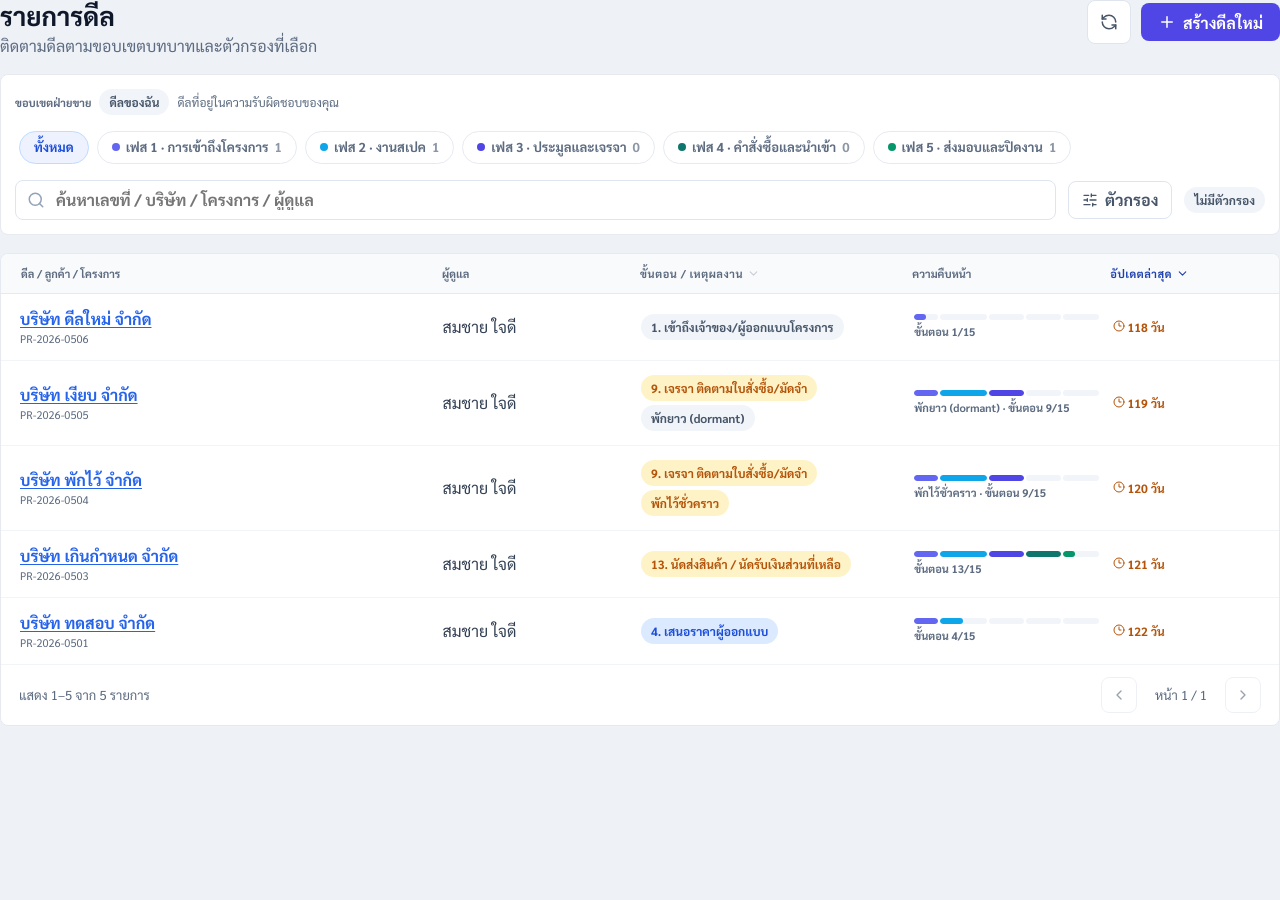
TicketListPage › filters by lifecycle, overdue, and partial delivery chips (after expanding "ตัวกรองเพิ่มเติม")
The width and height of the screenshot is (1280, 900).
Check: the link "บริษัท ทดสอบ จำกัด" is shown, box top-left (20, 612), bottom-right (155, 633)
Click the button "ตัวกรอง": [1120, 200] box top-left (1068, 181), bottom-right (1172, 219)
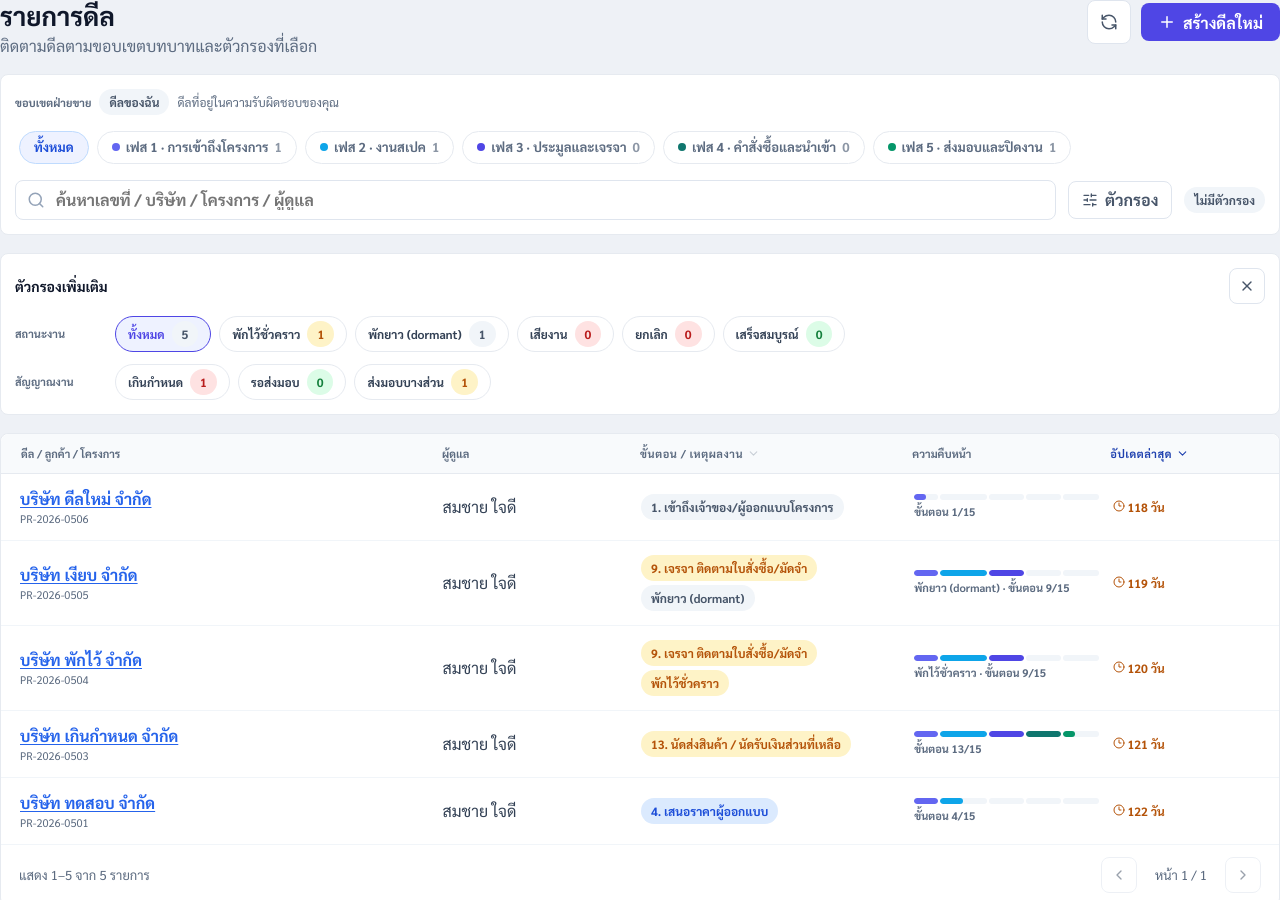
Click the button "พักไว้ชั่วคราว 1": [283, 334] box top-left (219, 316), bottom-right (347, 352)
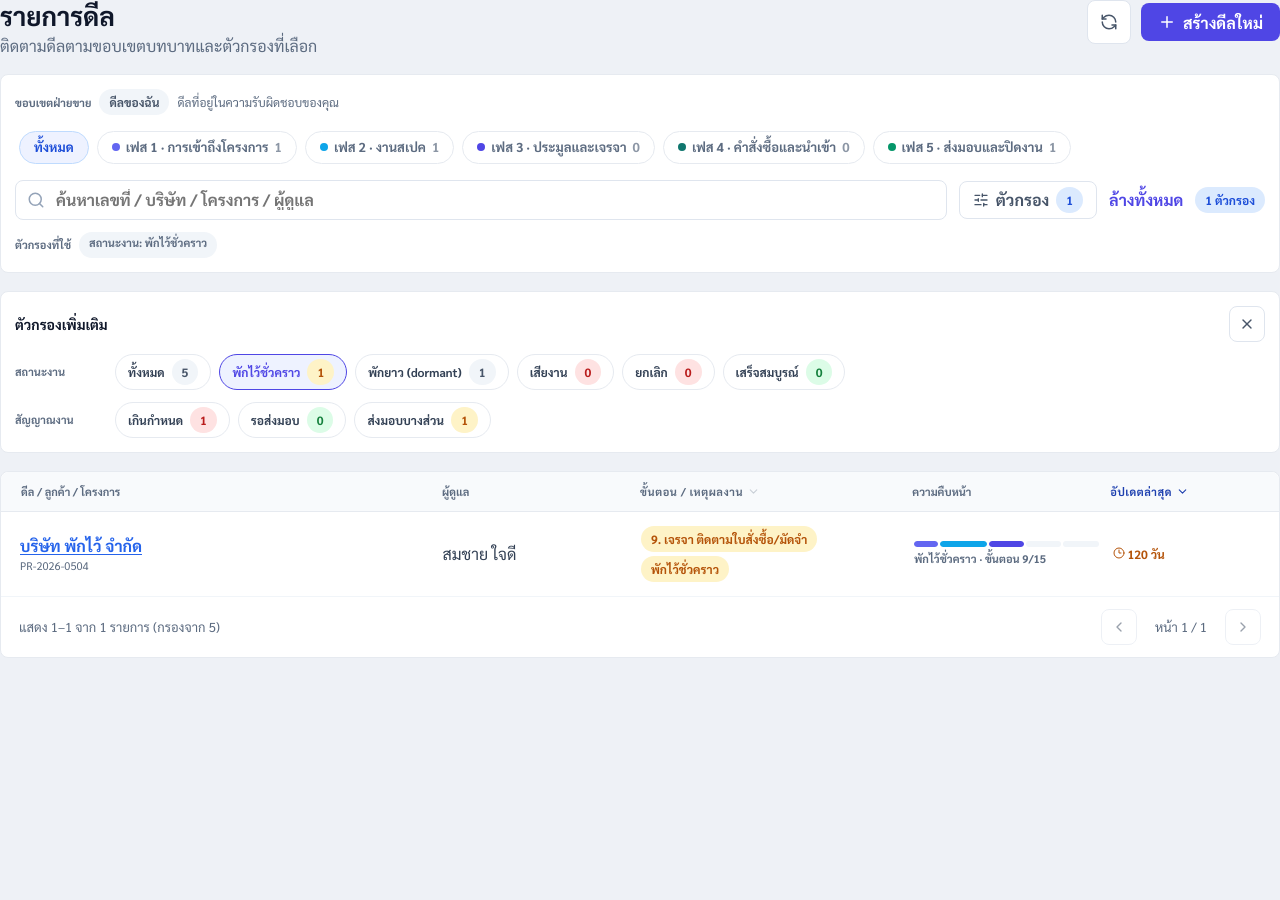
Check: the link "บริษัท พักไว้ จำกัด" is shown, box top-left (20, 535), bottom-right (142, 556)
Check: the link "บริษัท ทดสอบ จำกัด" is gone
Click the button "พักไว้ชั่วคราว 1": [283, 372] box top-left (219, 354), bottom-right (347, 390)
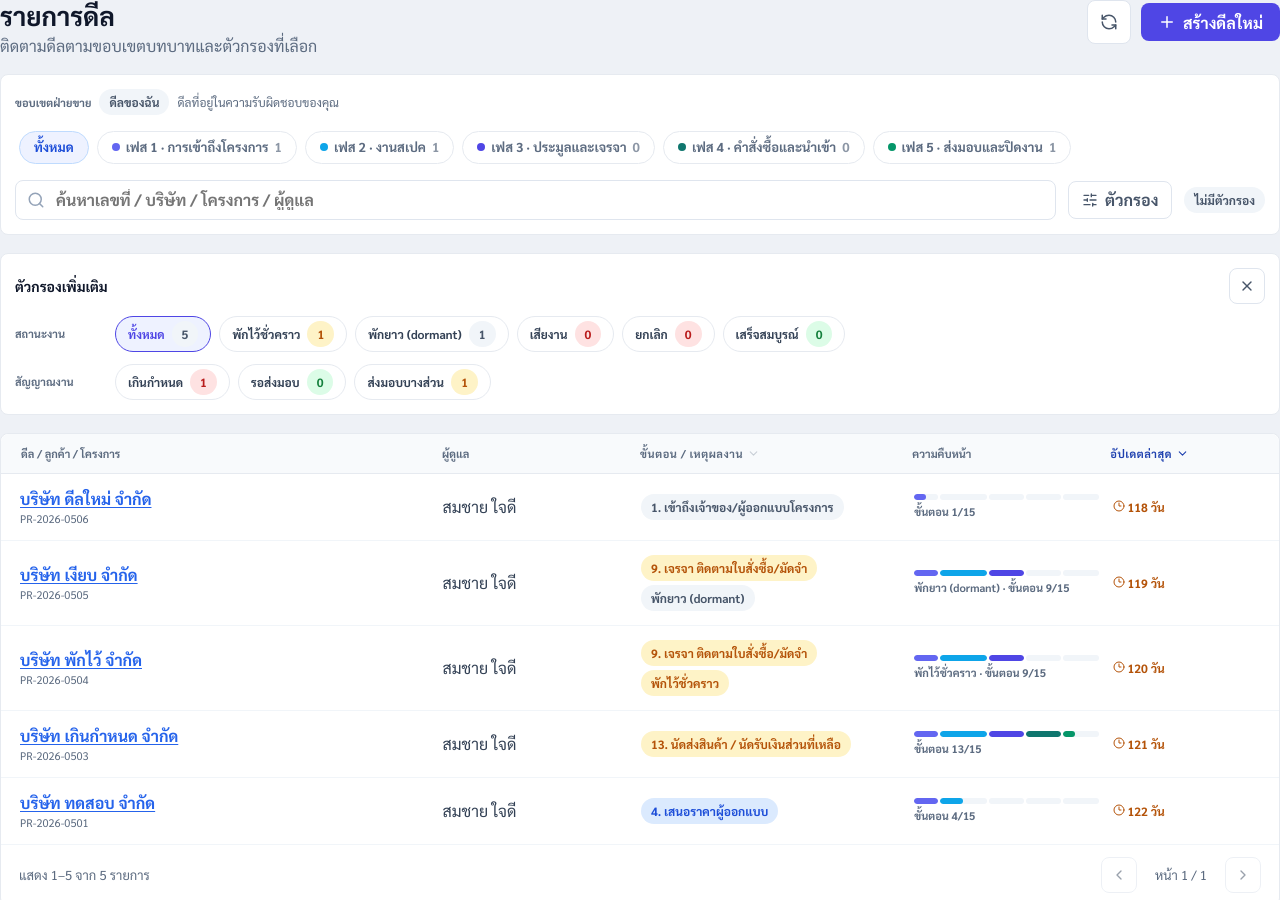
Click the button "เกินกำหนด 1": [172, 382] box top-left (115, 364), bottom-right (230, 400)
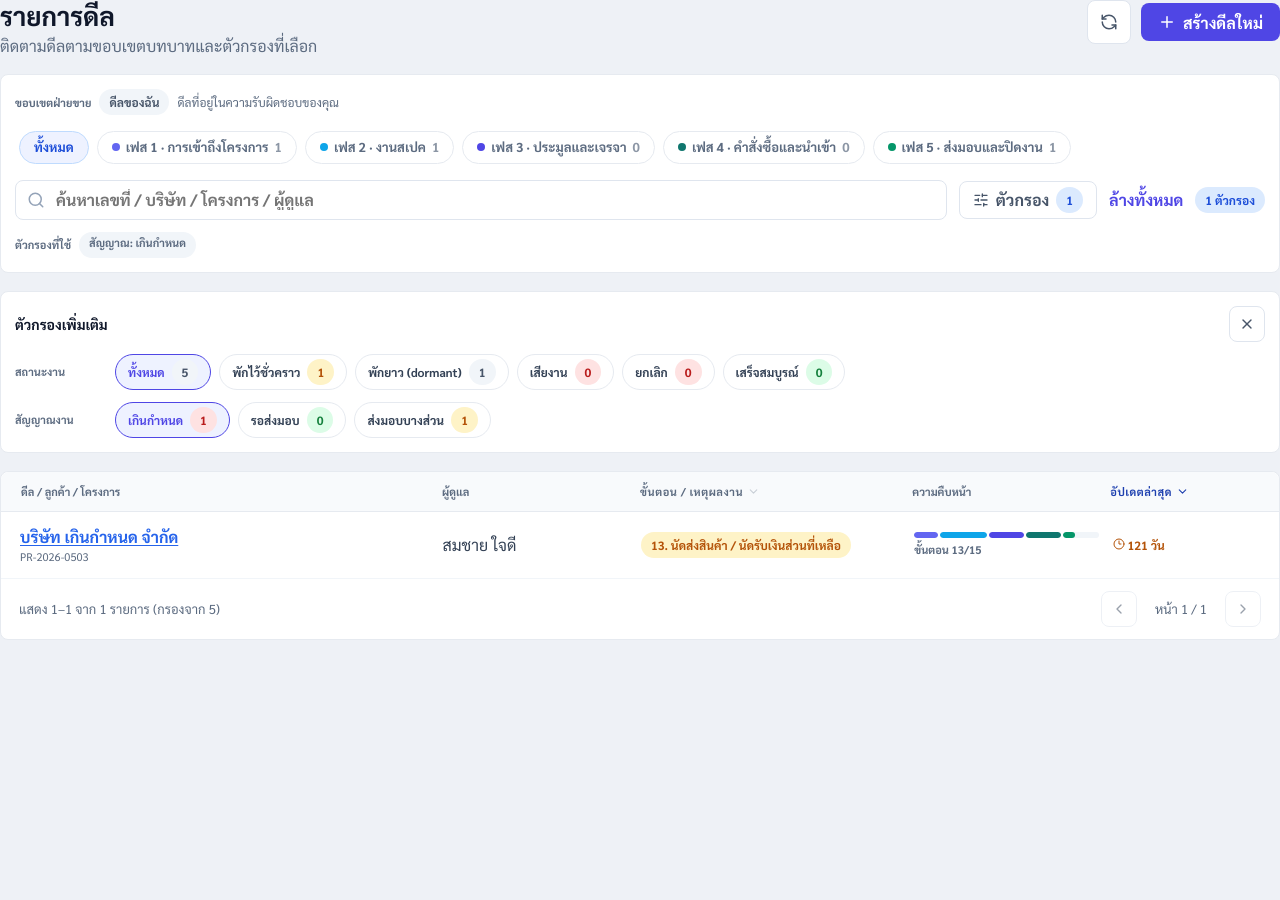
Check: the link "บริษัท เกินกำหนด จำกัด" is shown, box top-left (20, 526), bottom-right (178, 547)
Check: the link "บริษัท พักไว้ จำกัด" is gone
Click the button "เกินกำหนด 1": [172, 420] box top-left (115, 402), bottom-right (230, 438)
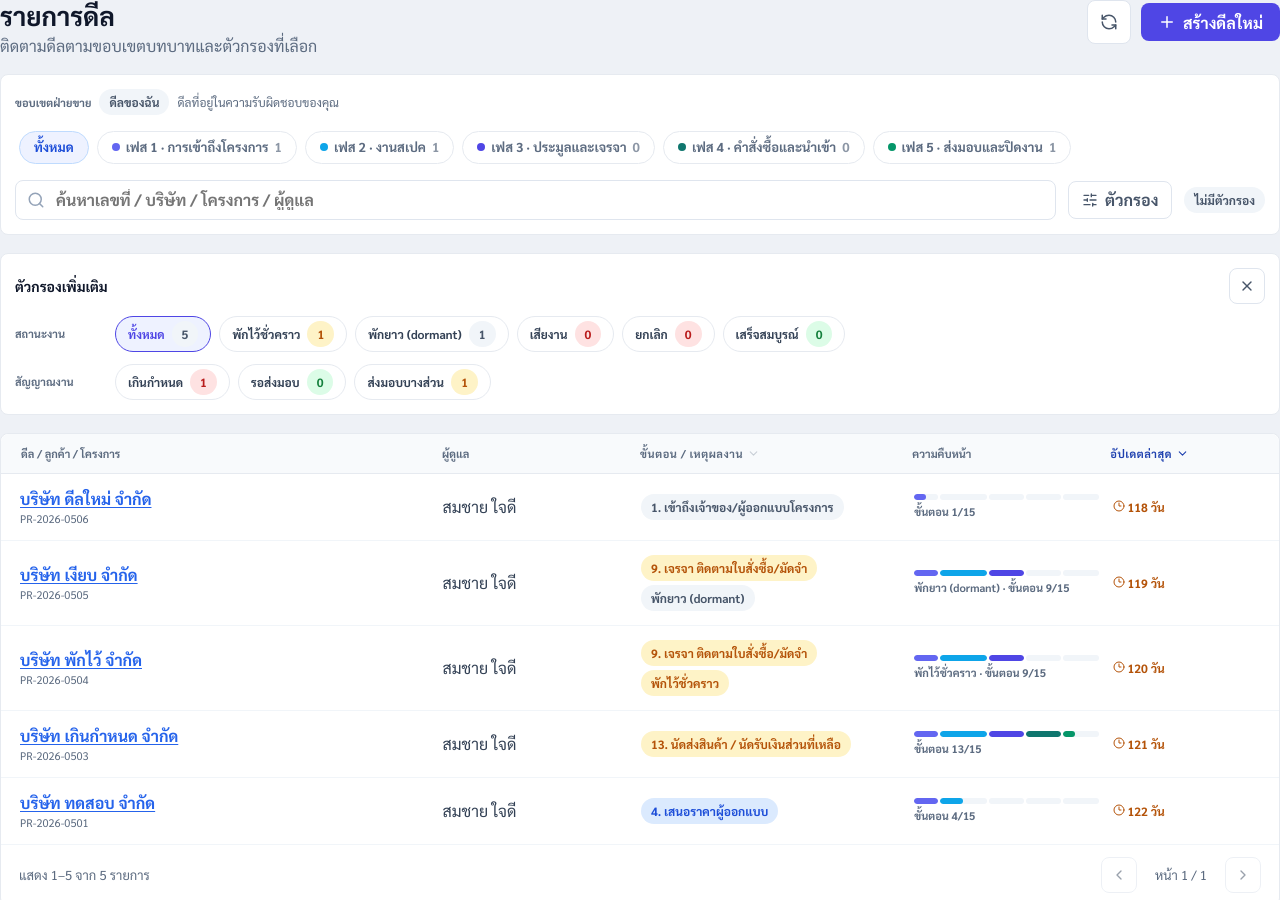
Click the button "ส่งมอบบางส่วน 1": [423, 382] box top-left (354, 364), bottom-right (491, 400)
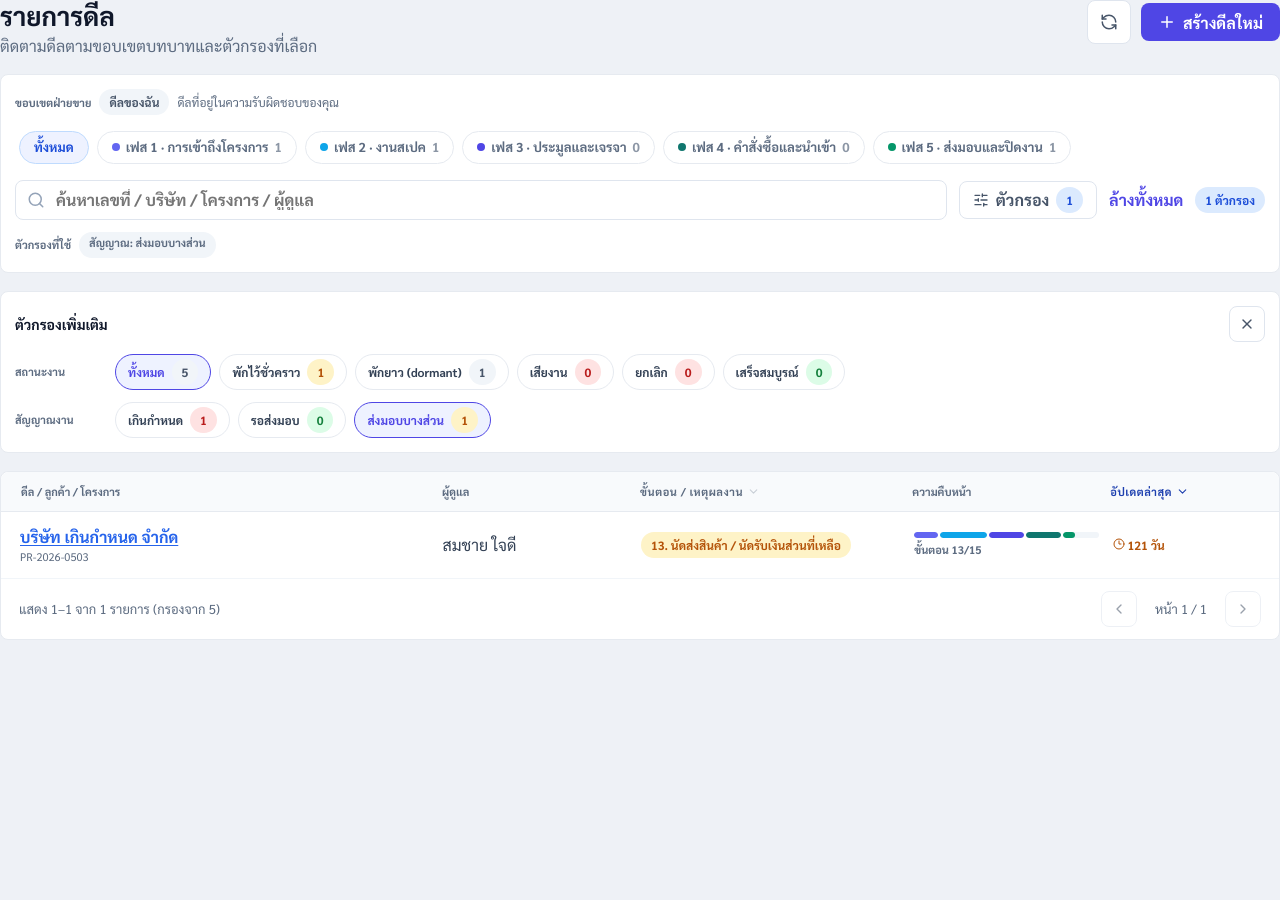
Check: the link "บริษัท เกินกำหนด จำกัด" is shown, box top-left (20, 526), bottom-right (178, 547)
Check: the link "บริษัท เงียบ จำกัด" is gone
